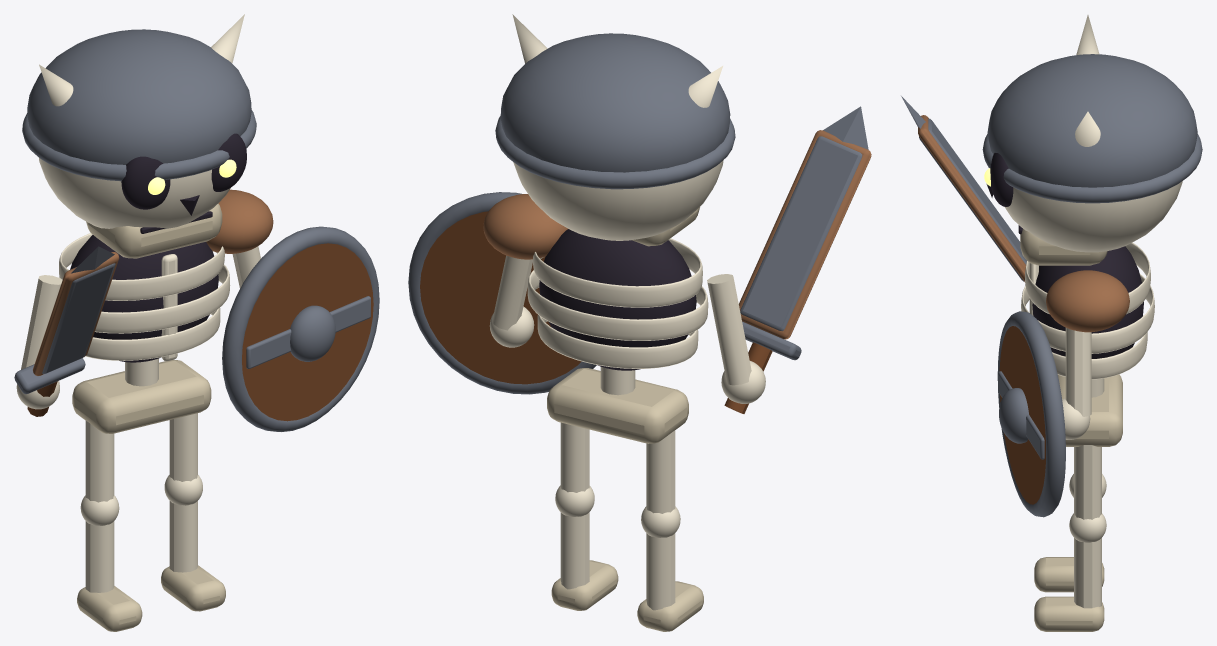
Rendered from BoneKnight.fbx.
The picture shows the model from 3 angles, left to right: view 1: azimuth 30°, elevation 25°; view 2: azimuth 150°, elevation 25°; view 3: azimuth 270°, elevation 25°; orthographic projection. The views are drawn at different scales.
Visible parts, largest first — view 1: Head, Shield, Body, Leg_R, Weapon, Leg_L, Arm_R, Arm_L; view 2: Head, Body, Shield, Weapon, Leg_R, Leg_L, Arm_R, Arm_L; view 3: Head, Body, Shield, Leg_L, Weapon, Arm_L, Leg_R.
Boxes of the visible parts, x1,y1,x2,y2 form: Head: [22, 14, 256, 258]; Shield: [222, 226, 379, 431]; Body: [59, 189, 273, 433]; Leg_R: [77, 420, 142, 631]; Weapon: [14, 246, 119, 416]; Leg_L: [161, 413, 225, 611]; Arm_R: [16, 275, 62, 409]; Arm_L: [232, 246, 260, 288]; Head: [495, 14, 735, 246]; Body: [483, 194, 708, 443]; Shield: [408, 192, 596, 394]; Weapon: [724, 106, 871, 413]; Leg_R: [637, 430, 703, 631]; Leg_L: [551, 422, 618, 610]; Arm_R: [707, 274, 765, 403]; Arm_L: [489, 255, 534, 347]; Head: [982, 15, 1202, 265]; Body: [1021, 242, 1154, 446]; Shield: [997, 311, 1065, 517]; Leg_L: [1034, 445, 1106, 631]; Weapon: [901, 96, 1029, 284]; Arm_L: [1062, 328, 1091, 439]; Leg_R: [1034, 474, 1106, 592].
Bounding box in the file's own units: 0.911 × 1.29 × 0.6465.
